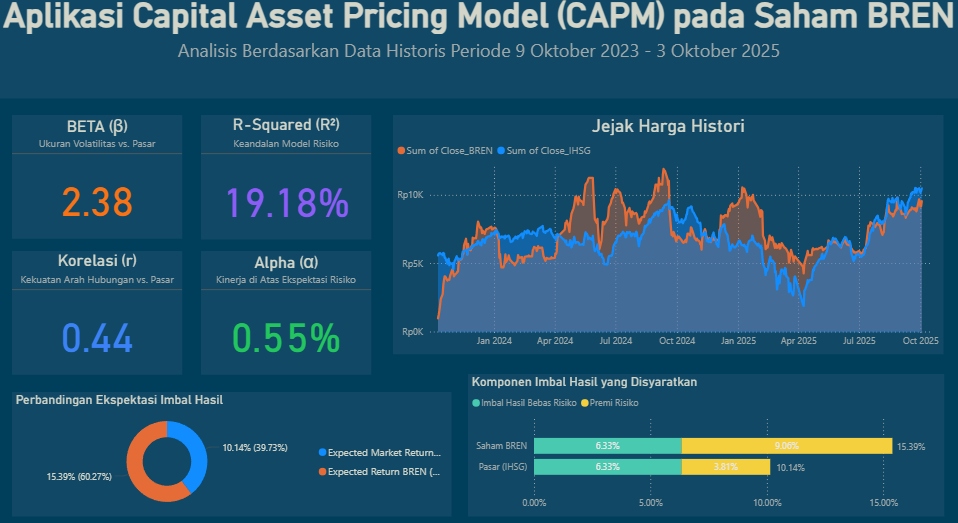

What the dashboard file says about the page in this screenshot:
{"tool":"powerbi","page":{"name":"Page 1","canvas":[1280,720],"ordinal":0},"visuals":[{"type":"textbox","title":"Aplikasi Capital Asset Pricing Model (CAPM) pada Saham BREN","box":[0,0,1280,137.6],"z":0},{"type":"card","title":"BETA (β)","fields":{"Values":["Sum(hasil_capm_bren (2).Nilai)"]},"box":[16.8,159.6,226.8,164.6],"z":1000},{"type":"card","title":"Alpha (α)","fields":{"Values":["Sum(HasilRegresi.Value)"]},"box":[268.8,341,226.8,164.6],"z":2000},{"type":"card","title":"R-Squared (R²)","fields":{"Values":["Sum(HasilRegresi.Value)"]},"box":[268.8,159.6,226.8,166.3],"z":3000},{"type":"lineChart","title":"Jejak Harga Histori","fields":{"Category":["DataReturn (2).Date.Variation.Date Hierarchy.Year","DataReturn (2).Date.Variation.Date Hierarchy.Quarter","DataReturn (2).Date.Variation.Date Hierarchy.Month","DataReturn (2).Date.Variation.Date Hierarchy.Day"],"Y2":["Sum(DataReturn (2).Close_IHSG)"],"Y":["Sum(DataReturn (2).Close_BREN)"]},"box":[525.8,159.6,734.1,319.2],"z":4000},{"type":"donutChart","title":"Perbandingan Ekspektasi Imbal Hasil","fields":{"Y":["Sum(hasil_capm_bren (2).Nilai)"],"Series":["hasil_capm_bren (2).Metrik"]},"box":[16.8,529.1,586.2,166.3],"z":5000},{"type":"card","title":"Korelasi (r)","fields":{"Values":["Sum(HasilRegresi.Value)"]},"box":[16.8,341,226.8,164.6],"z":6000},{"type":"barChart","title":"Komponen Imbal Hasil yang Disyaratkan ","fields":{"Category":["data_komponen_capm.Aset"],"Y":["Sum(data_komponen_capm.Nilai)"],"Series":["data_komponen_capm.Komponen Imbal Hasil"]},"box":[624.9,505.6,635,189.8],"z":7000}]}

Visuals, with their boxes on the page's 1280x720 design canvas (x1, y1, x2, y2). These are canvas units, not pixel positions in the 958x523 screenshot, which may show the page scaled, cropped or inside an application window:
"Aplikasi Capital Asset Pricing Model (CAPM) pada Saham BREN" textbox: region(0, 0, 1280, 138)
"BETA (β)" card: region(17, 160, 244, 324)
"Alpha (α)" card: region(269, 341, 496, 506)
"R-Squared (R²)" card: region(269, 160, 496, 326)
"Jejak Harga Histori" lineChart: region(526, 160, 1260, 479)
"Perbandingan Ekspektasi Imbal Hasil" donutChart: region(17, 529, 603, 695)
"Korelasi (r)" card: region(17, 341, 244, 506)
"Komponen Imbal Hasil yang Disyaratkan " barChart: region(625, 506, 1260, 695)
